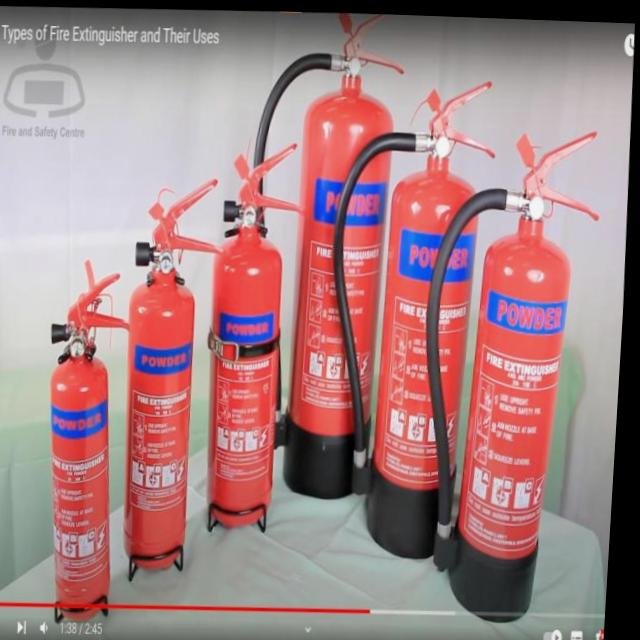FireExtinguisher: (410, 112, 616, 628), (225, 9, 421, 509), (314, 68, 511, 562), (116, 170, 239, 569), (198, 134, 319, 536), (34, 254, 147, 632)
